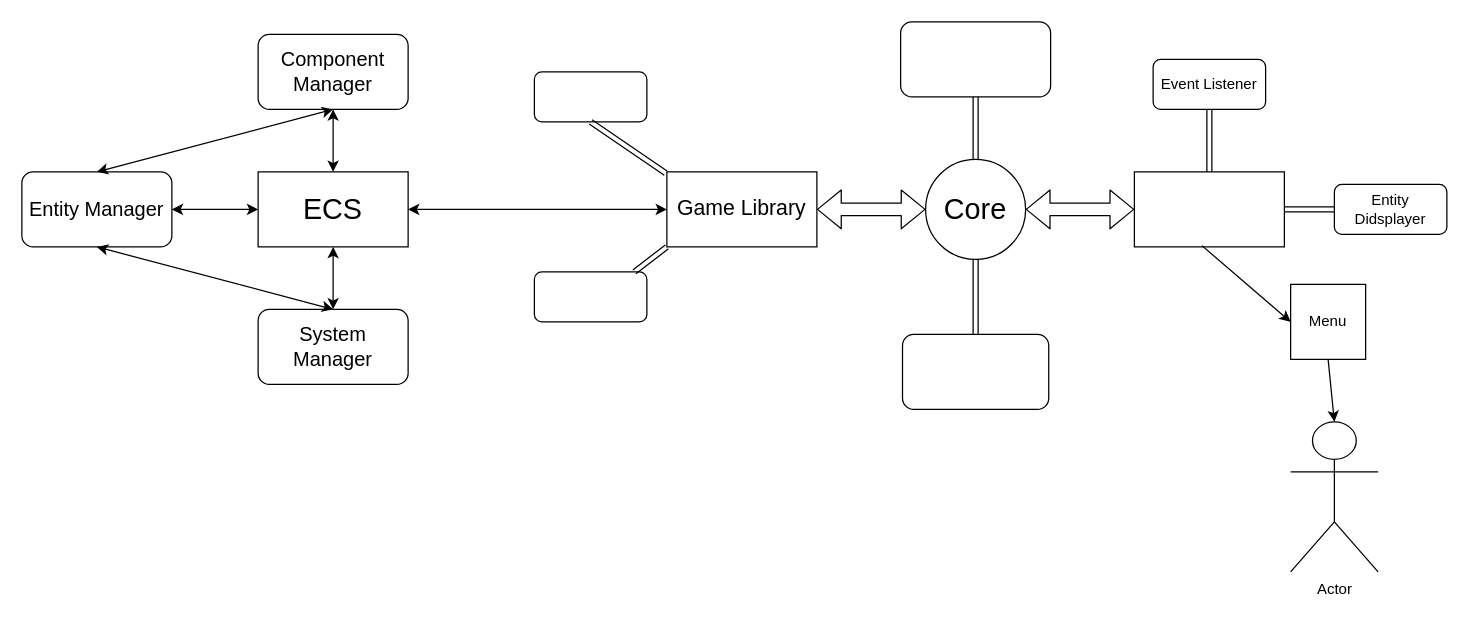
Some shapes in this 1469 by 620 pixel diagram are drawn without their labels. The shapes that lost their labels are listed below. From the top down, each one's box as (x1, y1, x2, y2) in pixels, then its label:
(899, 21, 1051, 97): DLLoader
(533, 71, 647, 122): Event Receiver
(1133, 171, 1284, 247): Graphical Library
(533, 271, 647, 322): Game rules Manager
(901, 333, 1049, 409): Parser
